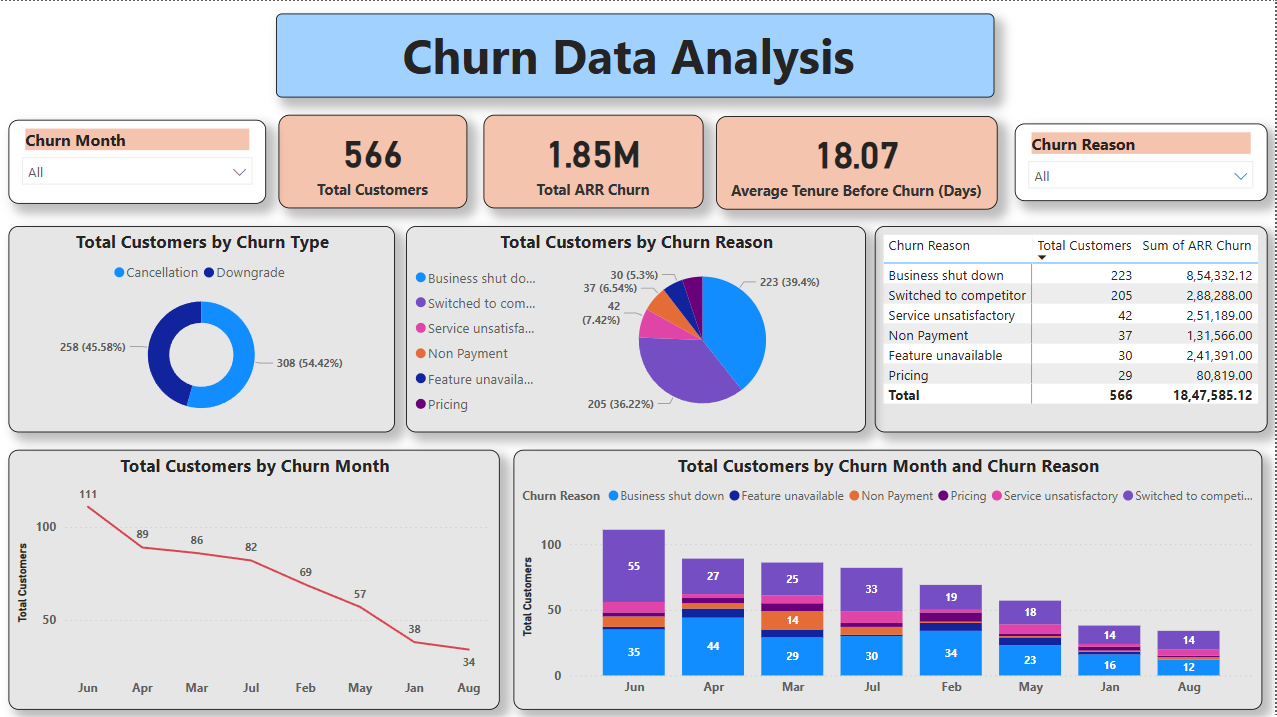

The page's visual inventory and layout, read from the dashboard file:
{"tool":"powerbi","page":{"name":"Page 1","canvas":[1280,720],"ordinal":0},"visuals":[{"type":"card","fields":{"Values":["All measures.Total Customers"]},"box":[282.5,113.8,188.8,93.8],"z":0},{"type":"card","fields":{"Values":["All measures.Total ARR Churn"]},"box":[487.5,113.8,220,93.8],"z":1000},{"type":"card","fields":{"Values":["All measures.Average Tenure Before Churn"]},"box":[720,115,281.2,93.8],"z":2000},{"type":"lineChart","fields":{"Category":["data.Churn Month"],"Y":["All measures.Total Customers"]},"box":[12.5,448.8,491.2,260],"z":3000},{"type":"columnChart","fields":{"Category":["data.Churn Month"],"Y":["All measures.Total Customers"],"Series":["data.Churn Reason"]},"box":[517.5,448.8,748.8,260],"z":4000},{"type":"textbox","box":[280,12.5,718.8,83.8],"z":5000},{"type":"donutChart","fields":{"Category":["data.Churn Type"],"Y":["All measures.Total Customers"]},"box":[12.5,225,386.2,206.2],"z":6000},{"type":"pivotTable","fields":{"Rows":["data.Churn Reason"],"Values":["All measures.Total Customers","Sum(data.ARR Churn)"]},"box":[878.8,225,392.5,206.2],"z":7000},{"type":"pieChart","fields":{"Category":["data.Churn Reason"],"Y":["All measures.Total Customers"]},"box":[410,225,460,206.2],"z":8000},{"type":"slicer","fields":{"Values":["data.Churn Month"]},"box":[12.5,118.8,257.5,83.8],"z":8001},{"type":"slicer","fields":{"Values":["data.Churn Reason"]},"box":[1018.8,122.5,252.5,77.5],"z":8002}]}

Visuals, with their boxes in screenshot pixels (x1, y1, x2, y2), scaled from the page's 1280x720 canvas onto the 1277x717 screenshot:
card - All measures.Total Customers: [282, 113, 470, 207]
card - All measures.Total ARR Churn: [486, 113, 706, 207]
card - All measures.Average Tenure Before Churn: [718, 115, 999, 208]
lineChart - data.Churn Month x All measures.Total Customers: [12, 447, 503, 706]
columnChart - data.Churn Month x All measures.Total Customers: [516, 447, 1263, 706]
textbox: [279, 12, 996, 96]
donutChart - data.Churn Type x All measures.Total Customers: [12, 224, 398, 429]
pivotTable - data.Churn Reason x All measures.Total Customers: [877, 224, 1268, 429]
pieChart - data.Churn Reason x All measures.Total Customers: [409, 224, 868, 429]
slicer - data.Churn Month: [12, 118, 269, 202]
slicer - data.Churn Reason: [1016, 122, 1268, 199]
